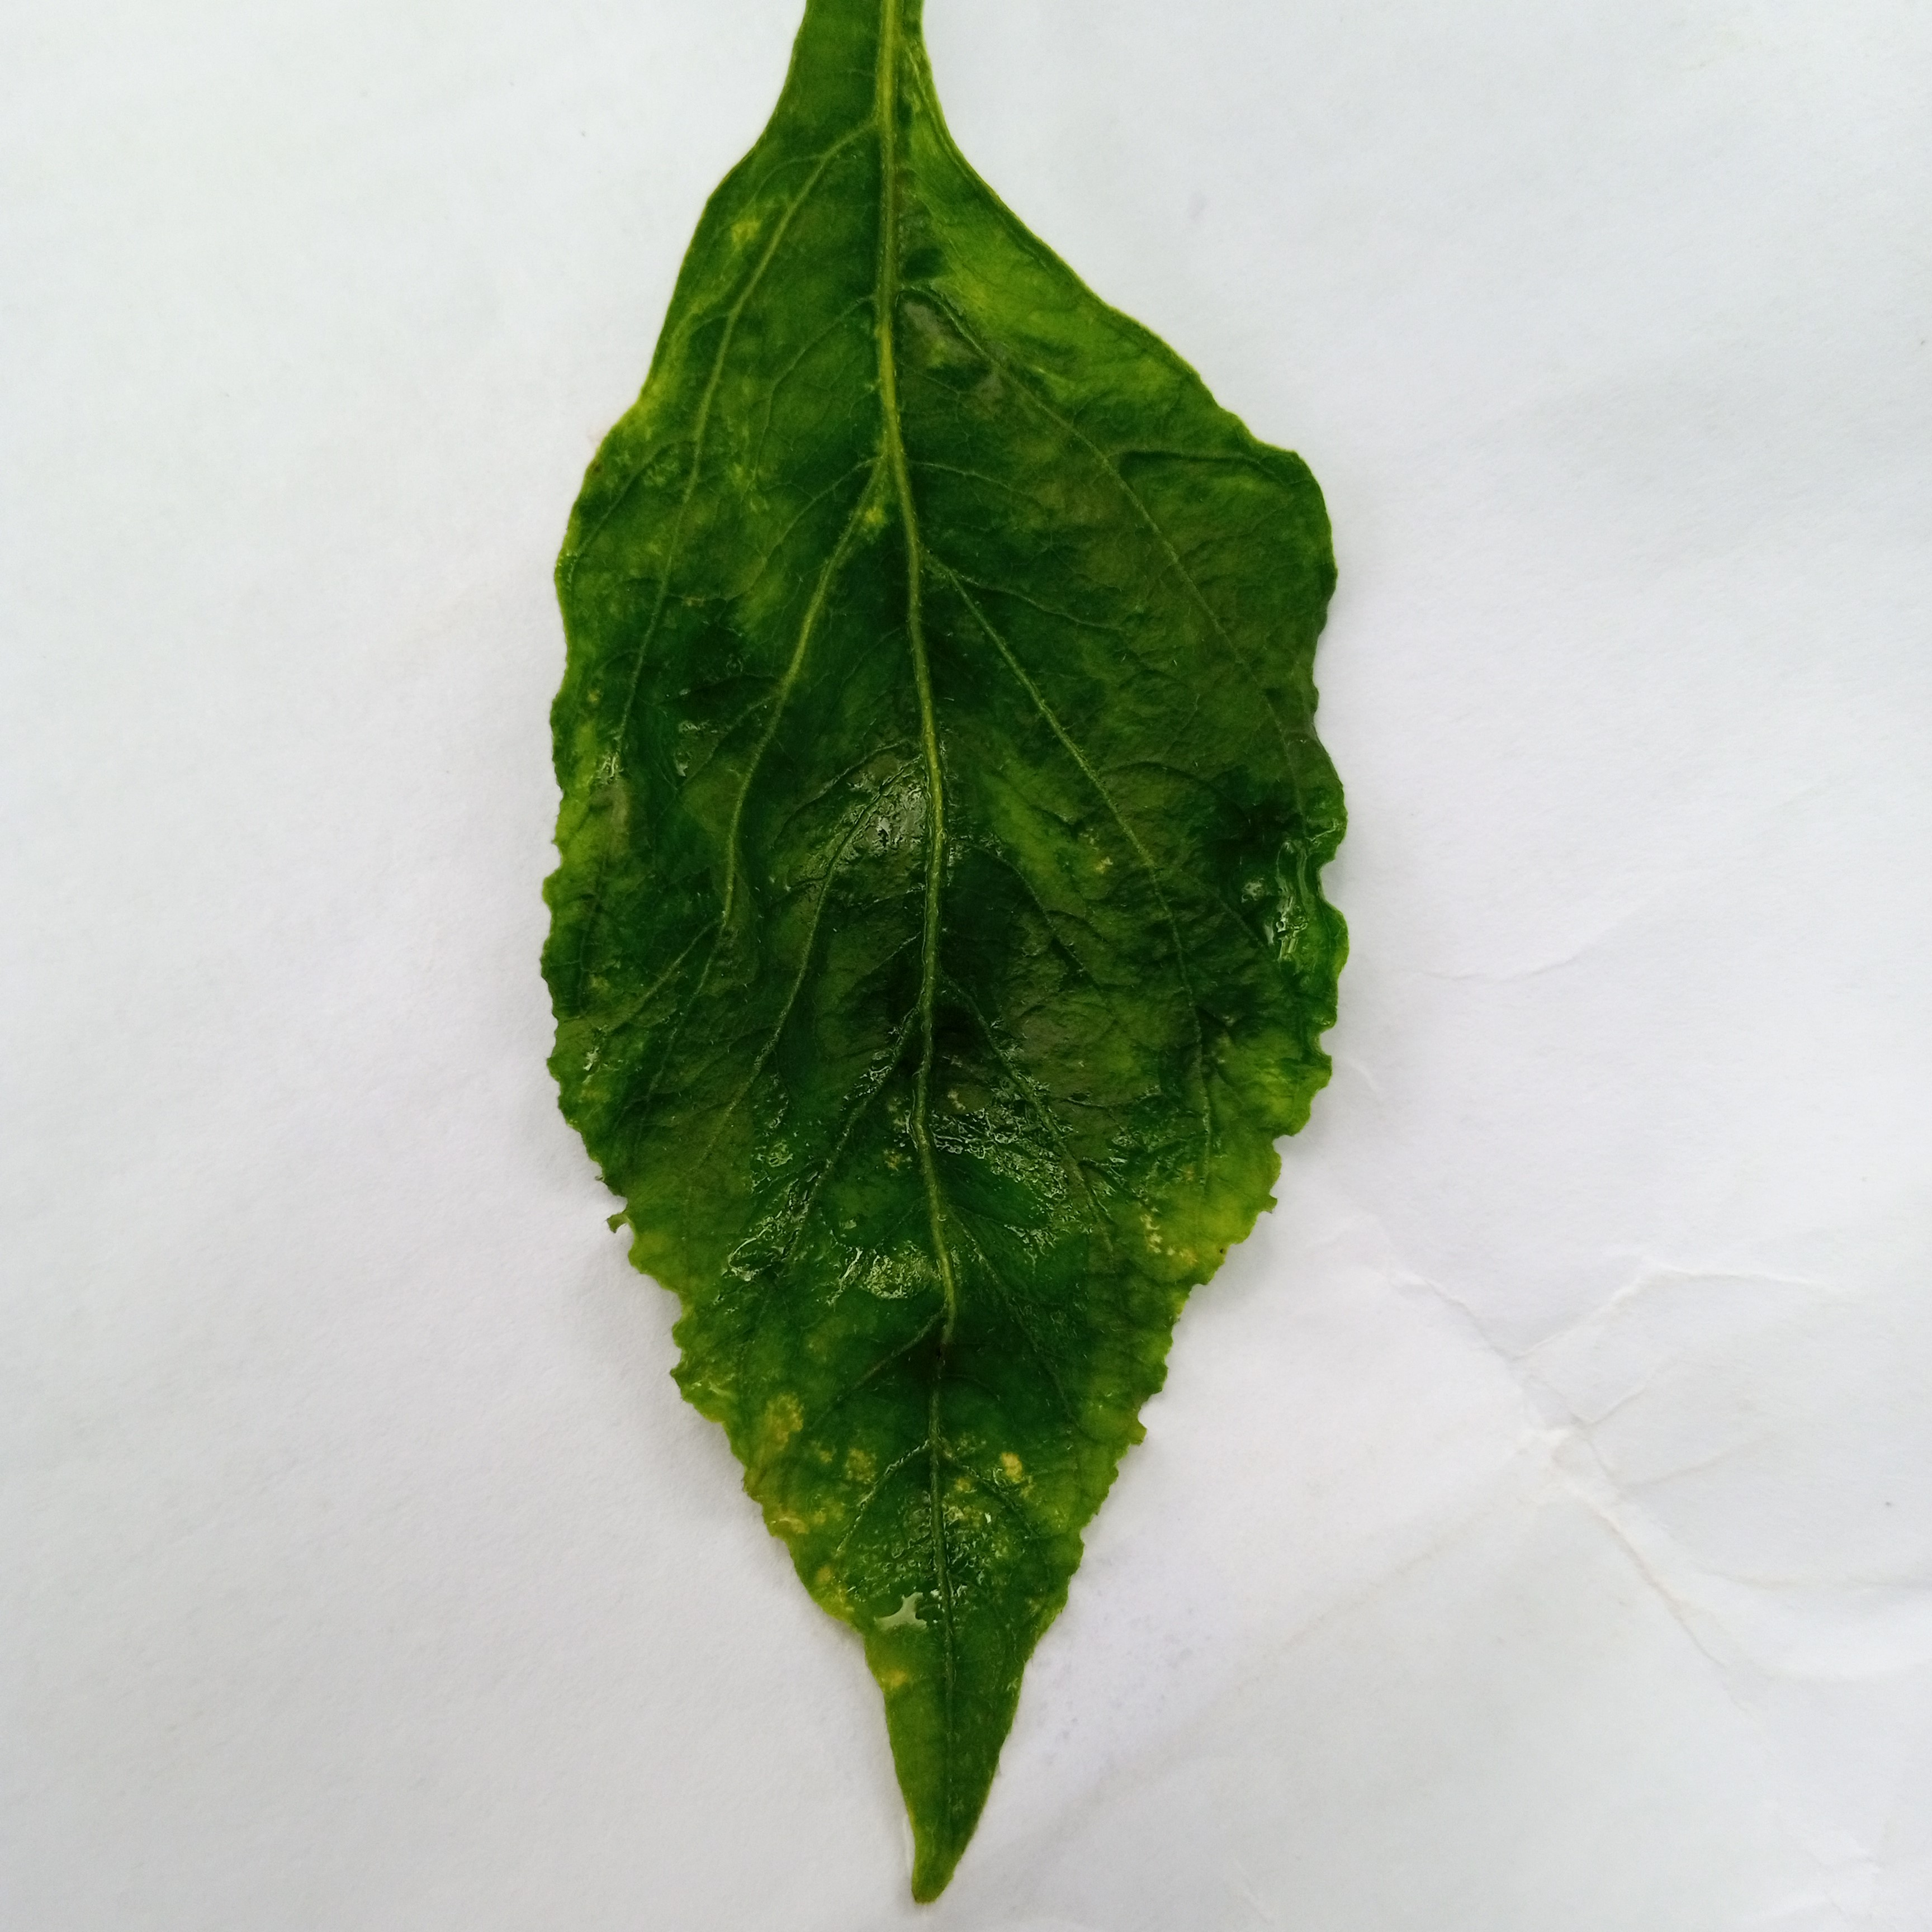Leaf: (313, 110, 1684, 1918)
